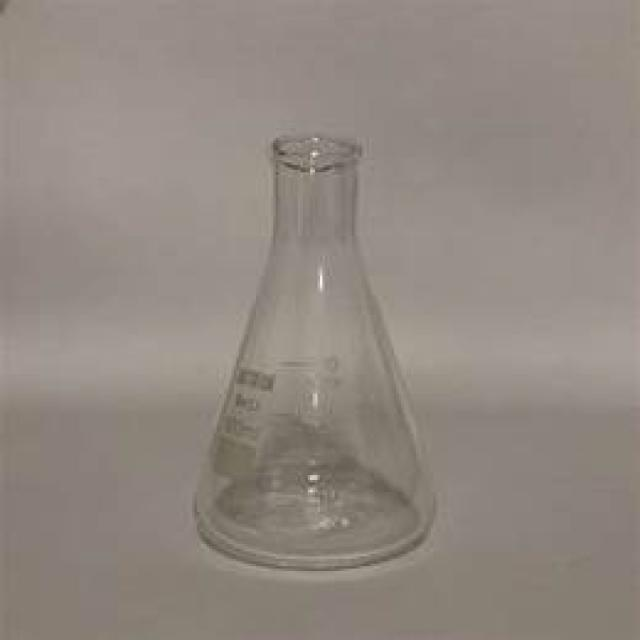Titrarion: (190, 114, 436, 568)
